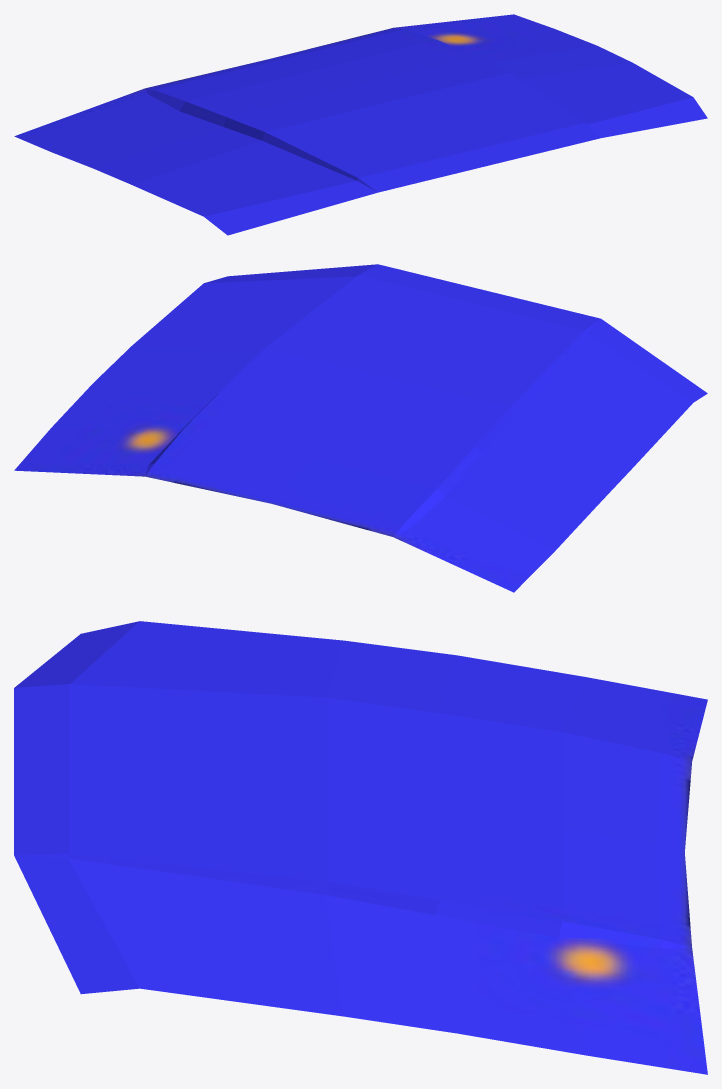
The model's file is hood4.obj.
The picture shows the model from 3 angles, top to bottom: view 1: azimuth 30°, elevation 25°; view 2: azimuth 150°, elevation 25°; view 3: azimuth 270°, elevation 25°; orthographic projection. The views are drawn at different scales.
Visible parts, largest first — view 1: hood; view 2: hood; view 3: hood.
Boxes of the visible parts, box(x1,y1,x2,y2) form: hood: box(14, 14, 707, 235); hood: box(14, 264, 707, 592); hood: box(14, 621, 707, 1074).
Bounding box in the file's own units: 1.09 × 0.1593 × 0.8472.
